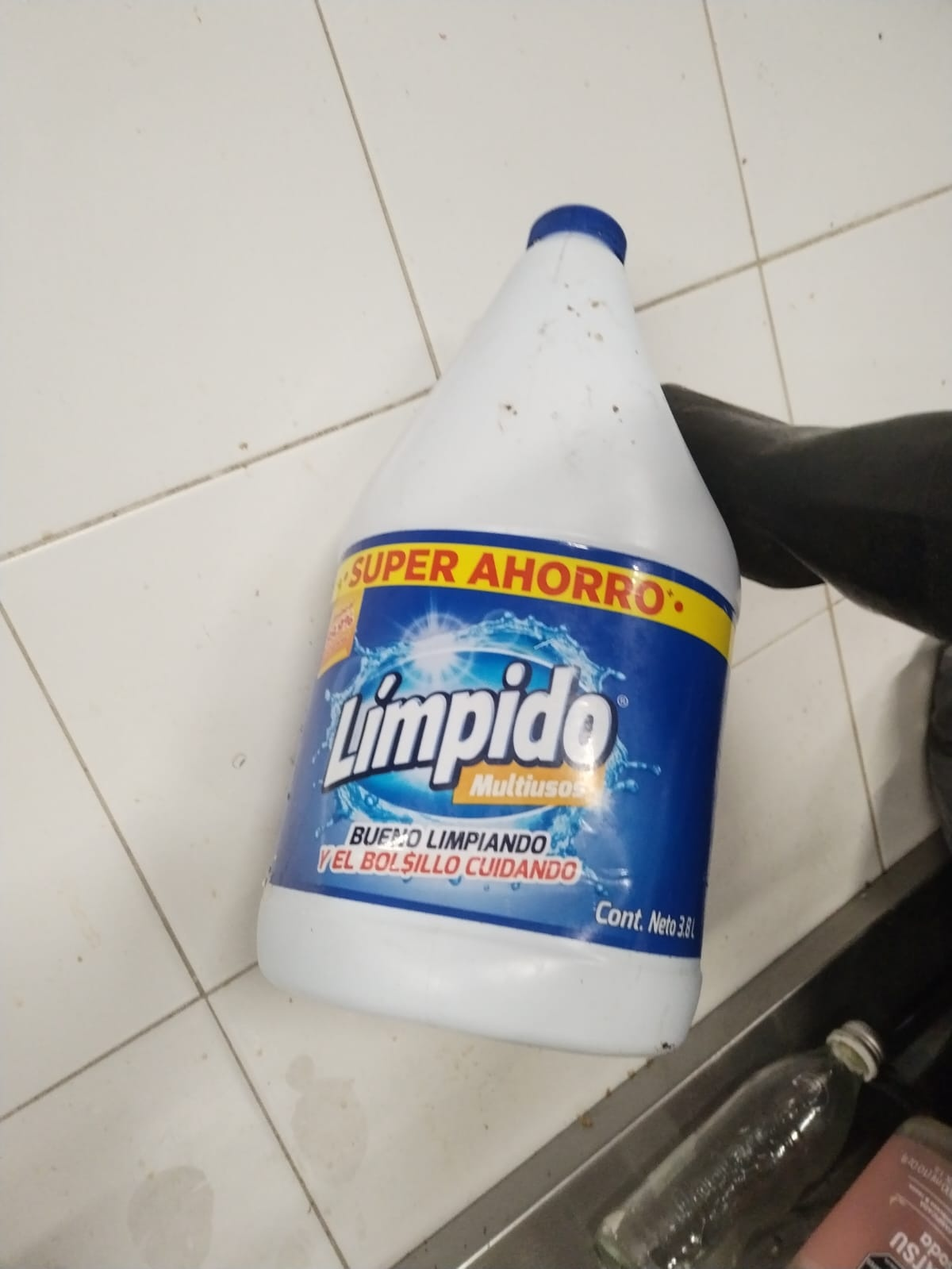Plastico: (253, 205, 738, 1055)
